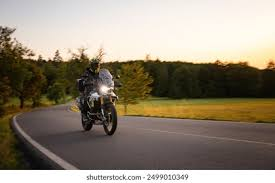motorcycle: (75, 70, 124, 134)
